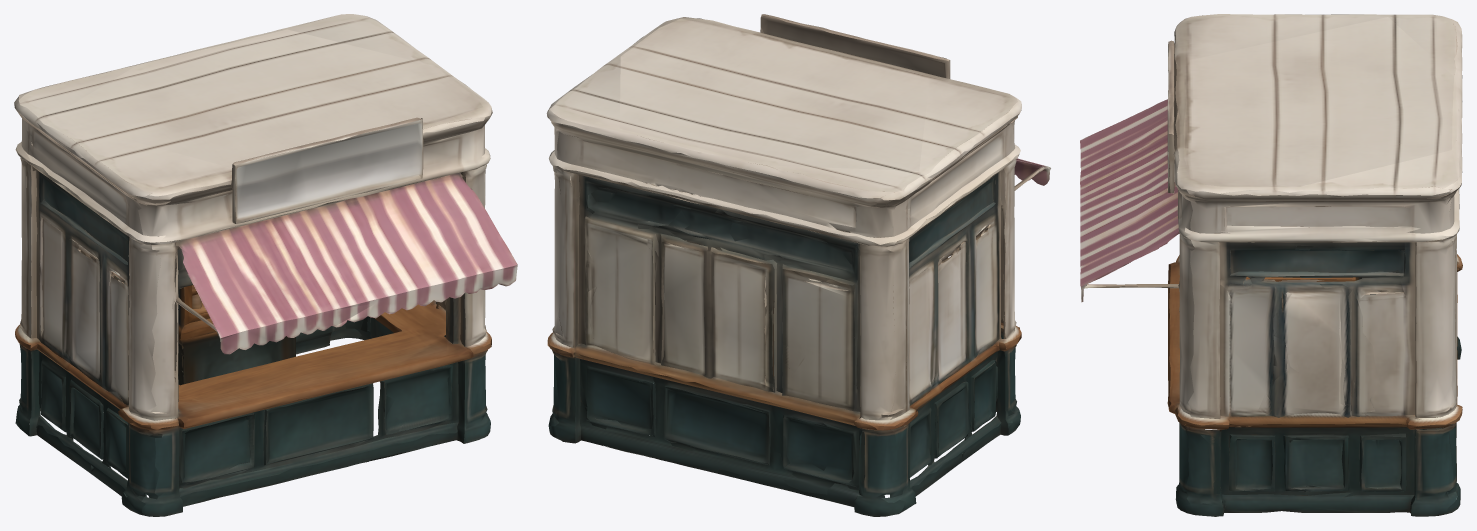
The model's file is unified--candy.glb.
3 views of the same model, side by side, from view 1: azimuth 30°, elevation 25°; view 2: azimuth 150°, elevation 25°; view 3: azimuth 270°, elevation 25° (orthographic).
Visible parts, largest first — view 1: candy-1; view 2: candy-1; view 3: candy-1.
Part boxes in pixels (x1=…): candy-1: x1=14, y1=14, x2=517, y2=516; candy-1: x1=546, y1=14, x2=1050, y2=516; candy-1: x1=1080, y1=14, x2=1462, y2=516.
Size of the model in its own units: 3.11 by 2.8 by 2.82.
Materials: 1 (1 with a texture image).
